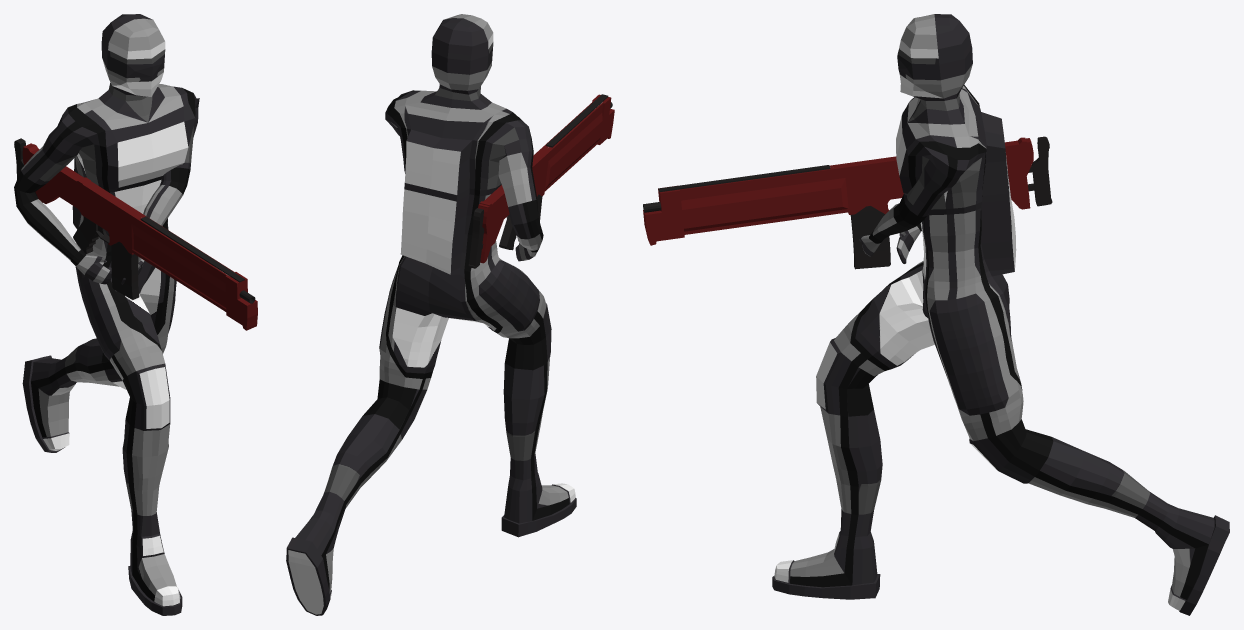
The model's file is SCR4.obj.
3 views of the same model, side by side, from view 1: azimuth 30°, elevation 25°; view 2: azimuth 150°, elevation 25°; view 3: azimuth 270°, elevation 25° (orthographic). The views are drawn at different scales.
Parts seen in each view (by area): view 1: metarig_object_metarig_mesh, Cube.001; view 2: metarig_object_metarig_mesh, Cube.001; view 3: metarig_object_metarig_mesh, Cube.001.
Boxes of the visible parts, bbox=[...] form: metarig_object_metarig_mesh: bbox=[14, 14, 199, 615]; Cube.001: bbox=[14, 138, 257, 330]; metarig_object_metarig_mesh: bbox=[286, 14, 576, 615]; Cube.001: bbox=[468, 94, 614, 268]; metarig_object_metarig_mesh: bbox=[772, 14, 1229, 615]; Cube.001: bbox=[643, 136, 1052, 269].
Bounding box in the file's own units: 0.4678 × 1.43 × 1.3.
2 materials, 2 textured.
